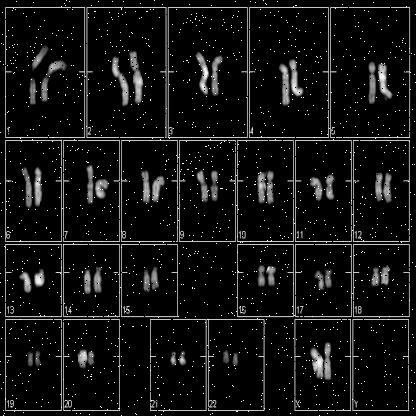1: (43, 57, 70, 106), (29, 40, 43, 106)
10: (267, 166, 278, 208), (256, 165, 267, 206)
11: (306, 172, 323, 204), (323, 172, 339, 204)
12: (372, 166, 384, 206), (382, 166, 394, 205)
13: (32, 266, 49, 297), (18, 266, 31, 297)
14: (93, 263, 106, 299), (82, 264, 92, 300)
15: (150, 264, 161, 298), (142, 264, 150, 298)
16: (265, 258, 280, 294), (255, 260, 267, 292)
17: (325, 266, 338, 292), (313, 265, 325, 292)
18: (370, 261, 381, 289), (382, 262, 393, 289)
19: (36, 348, 46, 370), (24, 348, 34, 369)
2: (110, 53, 129, 106), (130, 53, 146, 107)
20: (76, 346, 88, 374), (88, 347, 99, 375)
21: (178, 344, 190, 374), (168, 344, 177, 372)
22: (228, 346, 245, 372), (220, 347, 230, 372)
3: (192, 48, 210, 99), (210, 48, 224, 99)
4: (290, 53, 306, 109), (276, 62, 290, 108)
5: (376, 46, 394, 115), (366, 56, 377, 108)
6: (18, 164, 32, 212), (31, 163, 44, 213)
7: (95, 164, 111, 210), (84, 162, 95, 208)
8: (150, 168, 166, 206), (138, 168, 151, 205)
9: (196, 166, 210, 208), (210, 164, 222, 209)
X: (307, 340, 323, 384), (324, 341, 334, 386)
